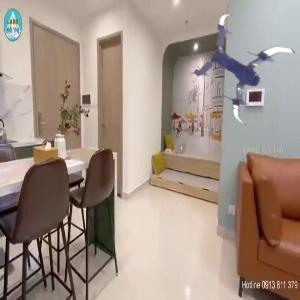drone: (194, 22, 297, 125)
